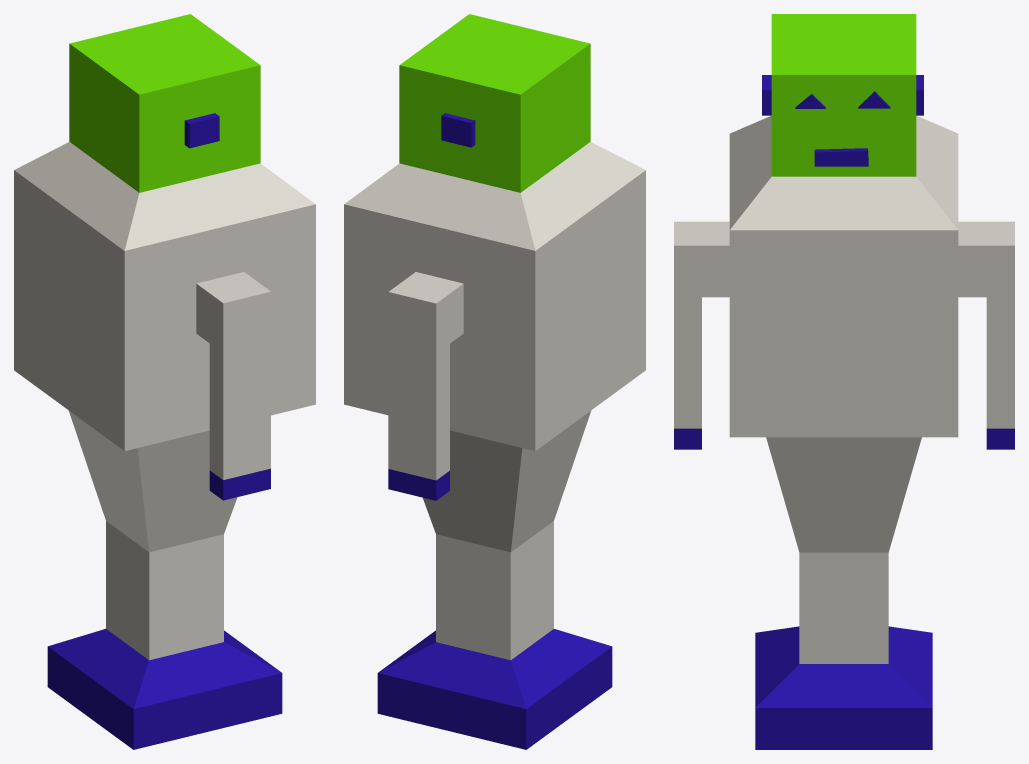
Rendered from bot.glb.
The picture shows the model from 3 angles, left to right: view 1: azimuth 30°, elevation 25°; view 2: azimuth 150°, elevation 25°; view 3: azimuth 270°, elevation 25°; orthographic projection. The views are drawn at different scales.
Visible parts, largest first — view 1: Cube; view 2: Cube; view 3: Cube.
Boxes of the visible parts, <box> form: Cube: <box>14,14,315,749</box>; Cube: <box>344,14,645,749</box>; Cube: <box>674,14,1014,749</box>.
Bounding box in the file's own units: 2 × 6.45 × 2.98.
